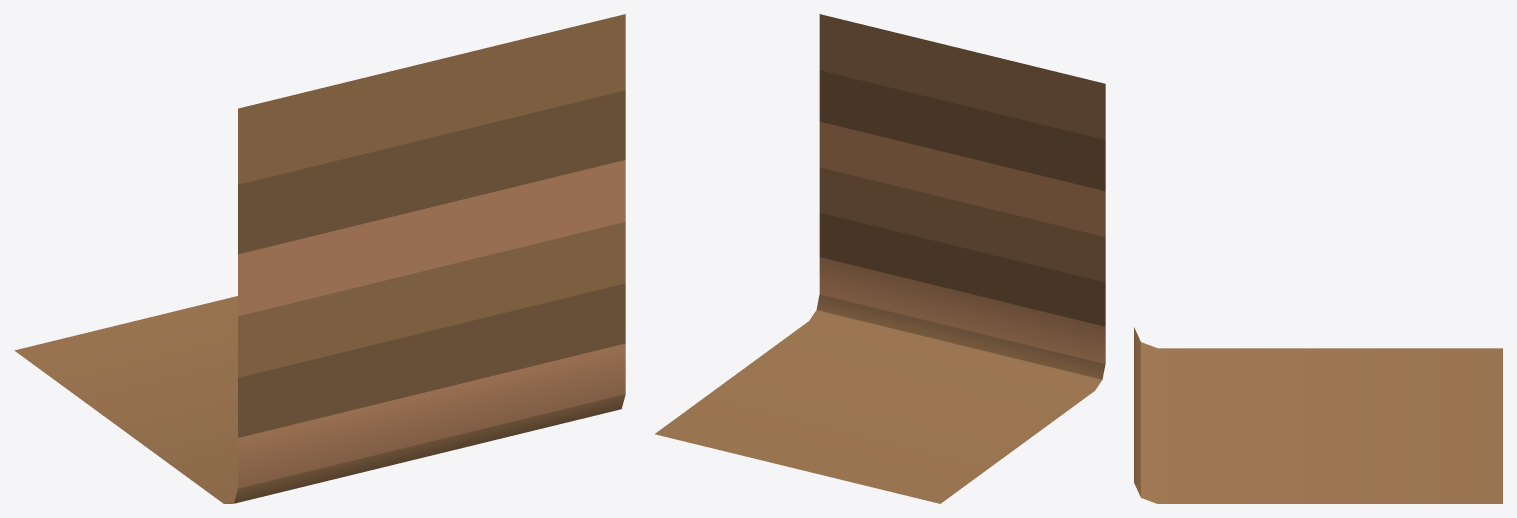
File: Cube_Grass_SideBottom_Tall.glb
The picture shows the model from 3 angles, left to right: view 1: azimuth 30°, elevation 25°; view 2: azimuth 150°, elevation 25°; view 3: azimuth 270°, elevation 25°; orthographic projection. The views are drawn at different scales.
Visible parts, largest first — view 1: Cube_Grass_SideBottom_Tall; view 2: Cube_Grass_SideBottom_Tall; view 3: Cube_Grass_SideBottom_Tall.
Part boxes in pixels (x1=…): Cube_Grass_SideBottom_Tall: x1=14, y1=14, x2=625, y2=503; Cube_Grass_SideBottom_Tall: x1=654, y1=14, x2=1105, y2=503; Cube_Grass_SideBottom_Tall: x1=1134, y1=327, x2=1502, y2=503.
Bounding box in the file's own units: 2 × 2 × 2.
